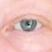eye: (21, 20, 36, 31)
